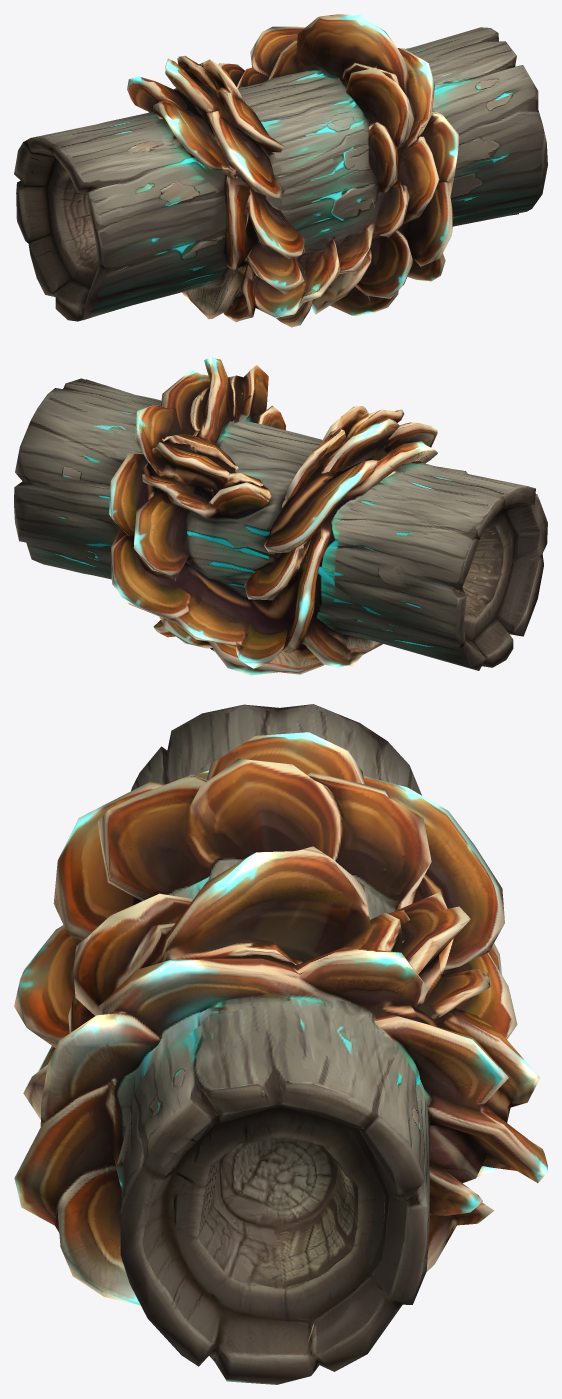
The picture shows the model from 3 angles, top to bottom: view 1: azimuth 30°, elevation 25°; view 2: azimuth 150°, elevation 25°; view 3: azimuth 270°, elevation 25°; orthographic projection. The views are drawn at different scales.
Parts seen in each view (by area): view 1: Mesh_0; view 2: Mesh_0; view 3: Mesh_0.
Part boxes in pixels (x1,y1,x2,y2): Mesh_0: (14,14,547,327); Mesh_0: (14,356,547,675); Mesh_0: (14,704,547,1384).
Size of the model in its own units: 1.91 by 1.16 by 1.12.
Materials: 1 (1 with a texture image).
